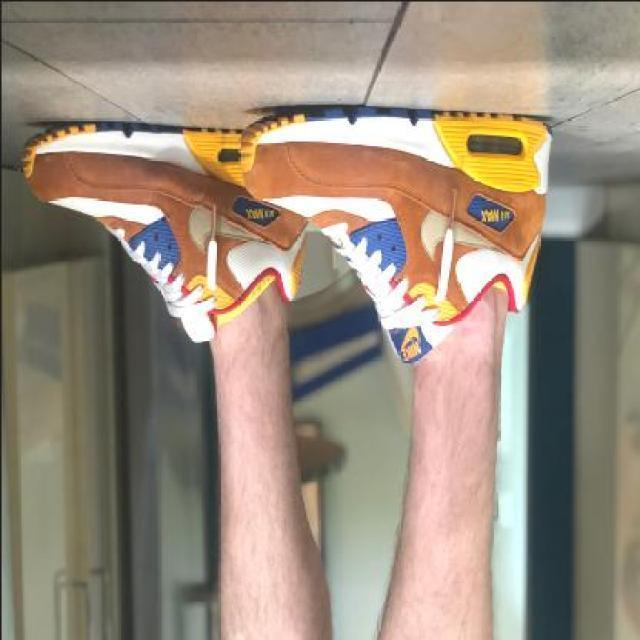shoes: (240, 102, 570, 293), (17, 128, 297, 300)
